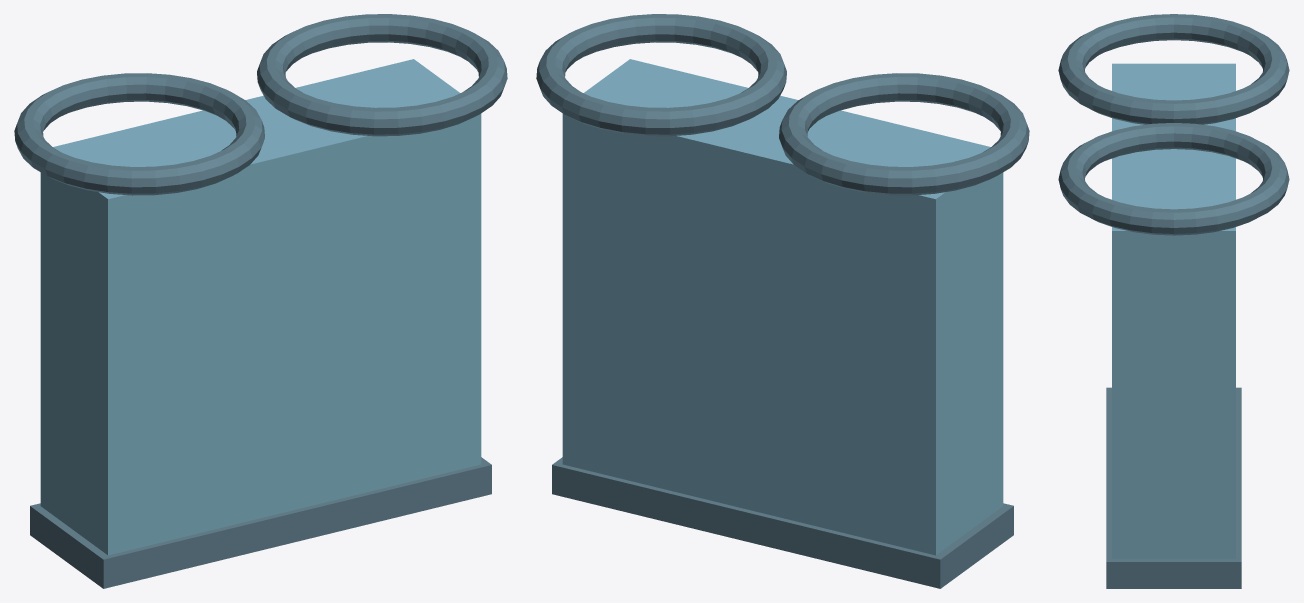
File: bag.glb
The picture shows the model from 3 angles, left to right: view 1: azimuth 30°, elevation 25°; view 2: azimuth 150°, elevation 25°; view 3: azimuth 270°, elevation 25°; orthographic projection. The views are drawn at different scales.
Visible parts, largest first — view 1: bag-0, bag-1, bag-2, bag-3; view 2: bag-0, bag-1, bag-2, bag-3; view 3: bag-0, bag-3, bag-2, bag-1.
Boxes of the visible parts, x1,y1,x2,y2 form: bag-0: [40, 59, 481, 555]; bag-1: [30, 457, 491, 588]; bag-2: [14, 73, 264, 195]; bag-3: [257, 14, 507, 136]; bag-0: [562, 59, 1003, 555]; bag-1: [552, 457, 1013, 588]; bag-2: [779, 73, 1029, 195]; bag-3: [536, 14, 786, 136]; bag-0: [1112, 63, 1235, 558]; bag-3: [1058, 123, 1289, 235]; bag-2: [1058, 14, 1289, 124]; bag-1: [1106, 387, 1241, 588].
Bounding box in the file's own units: 2.96 × 2.6 × 1.4.
